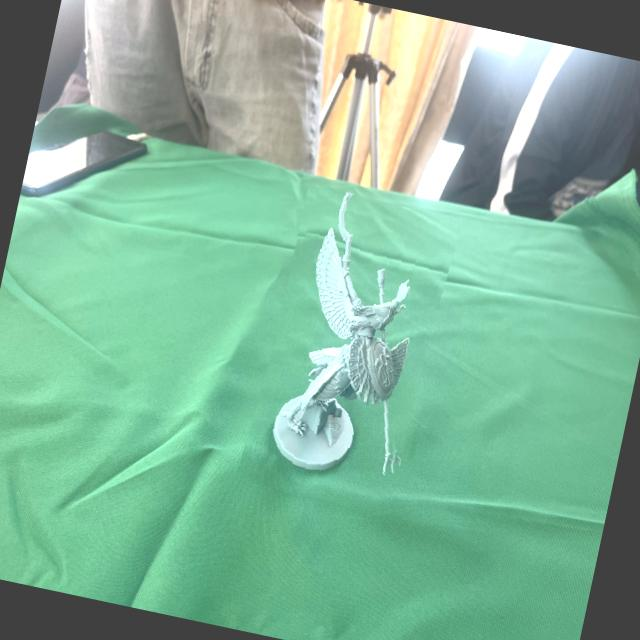isis: (238, 183, 458, 520)
